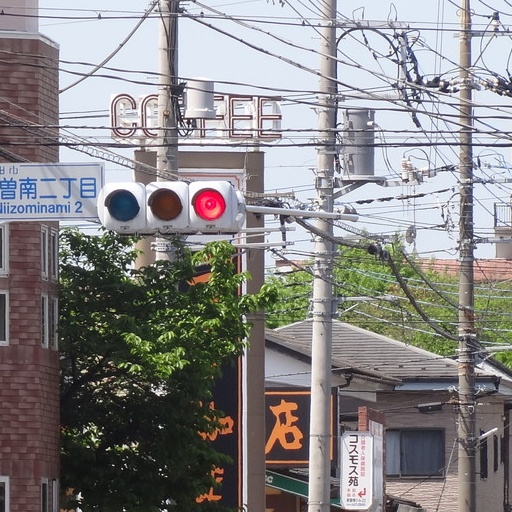Traffic_Signal_Red: (102, 177, 248, 232)
